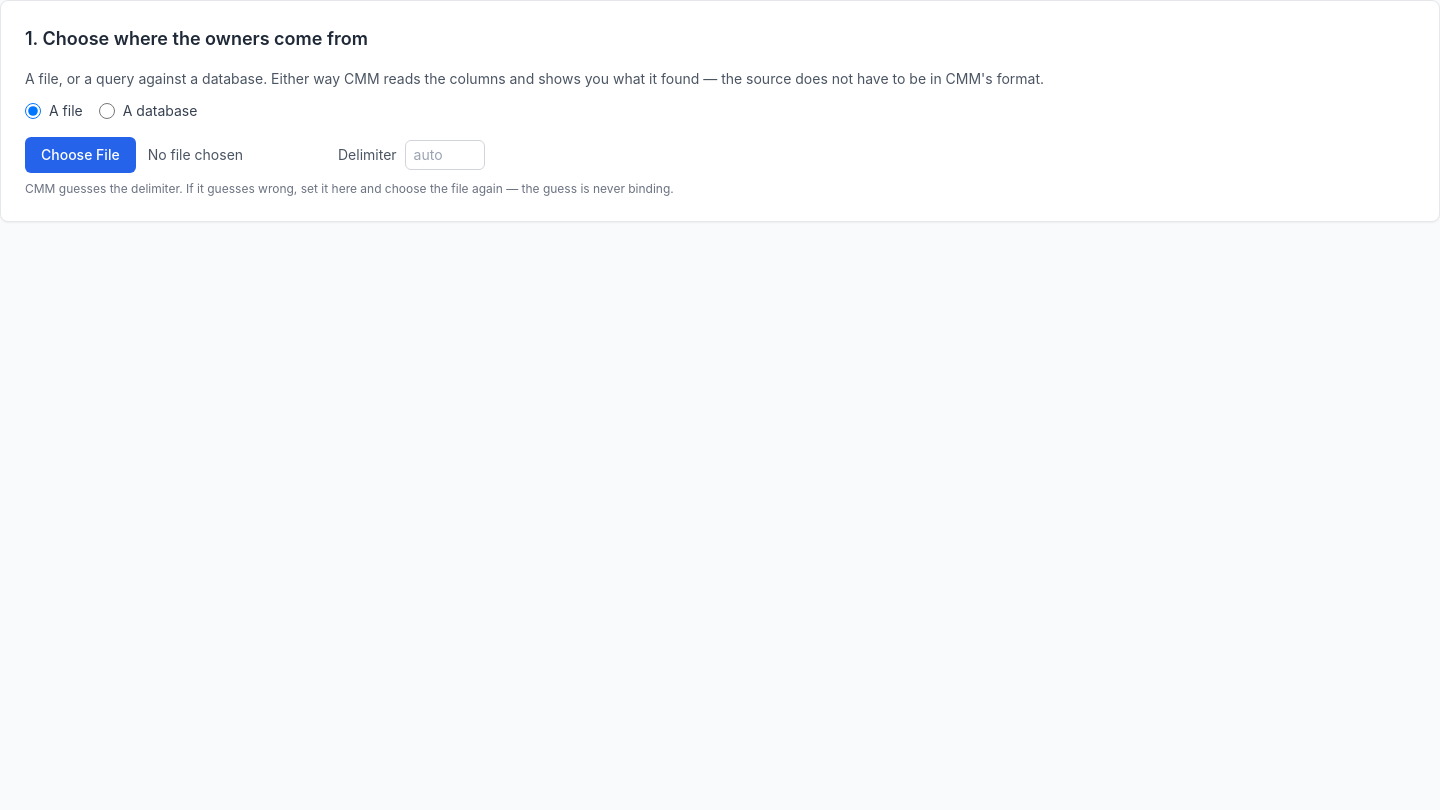
Test: importing owners from a database › reads the query's columns into the mapping step
Click the radio button labelled "A database": click(107, 111) [99,103,115,119]
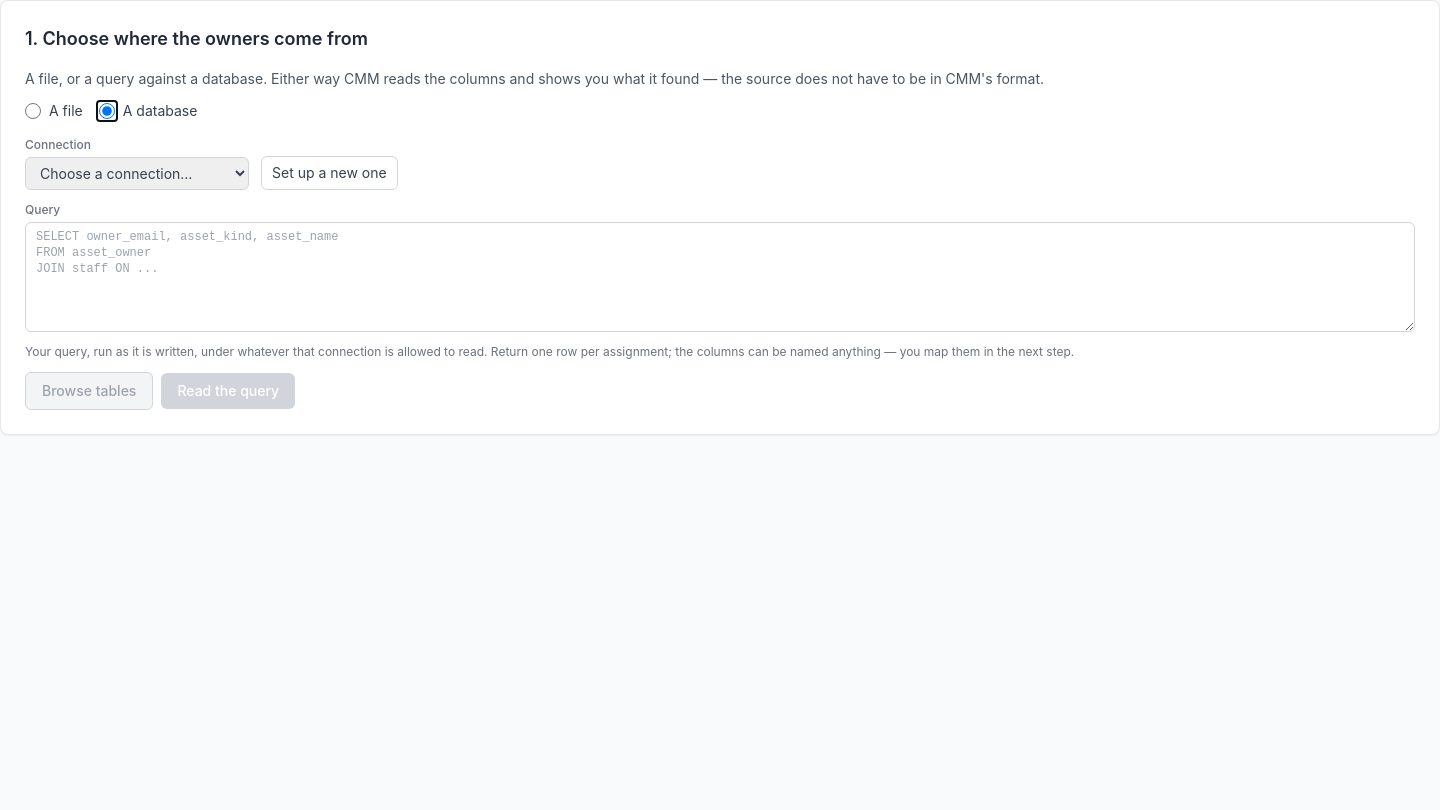
Select "cmdb-connection" in the dropdown labelled "Connection": (137, 174) [25,157,249,190]
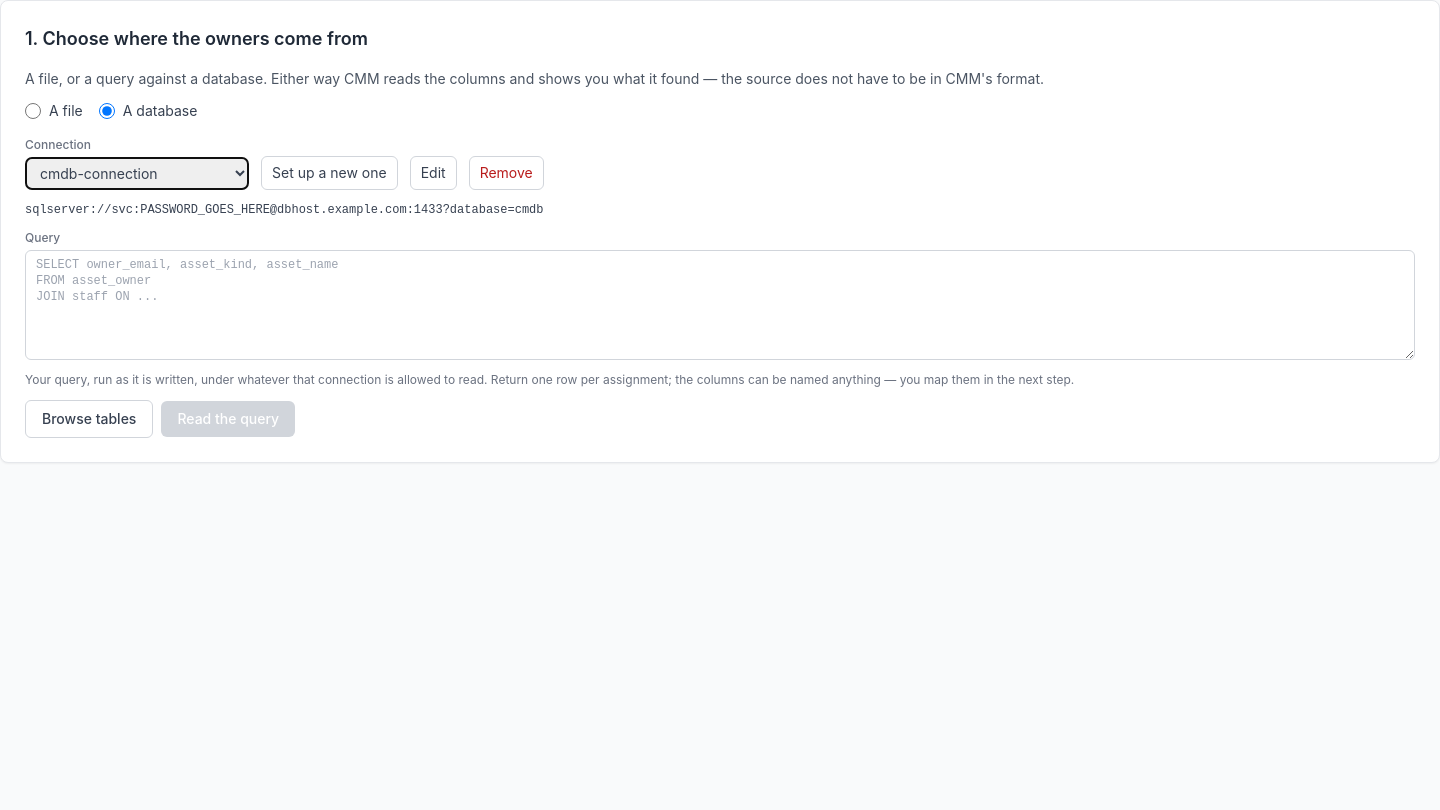
In the text box labelled "Query": (720, 305) [25,250,1415,360], type "SELECT owner_email FROM asset_owner"
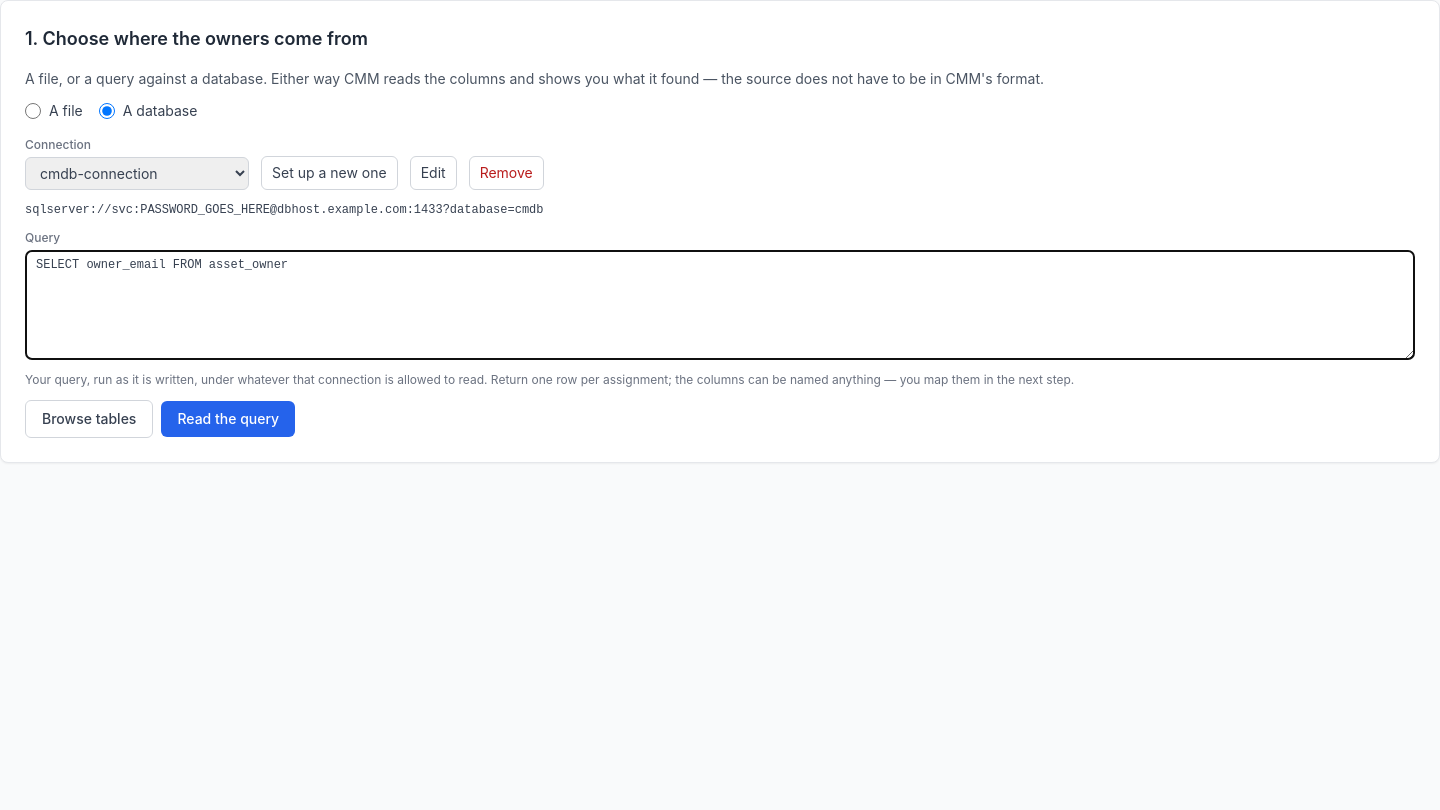
Click the button "Read the query": click(228, 419) [161,401,295,437]
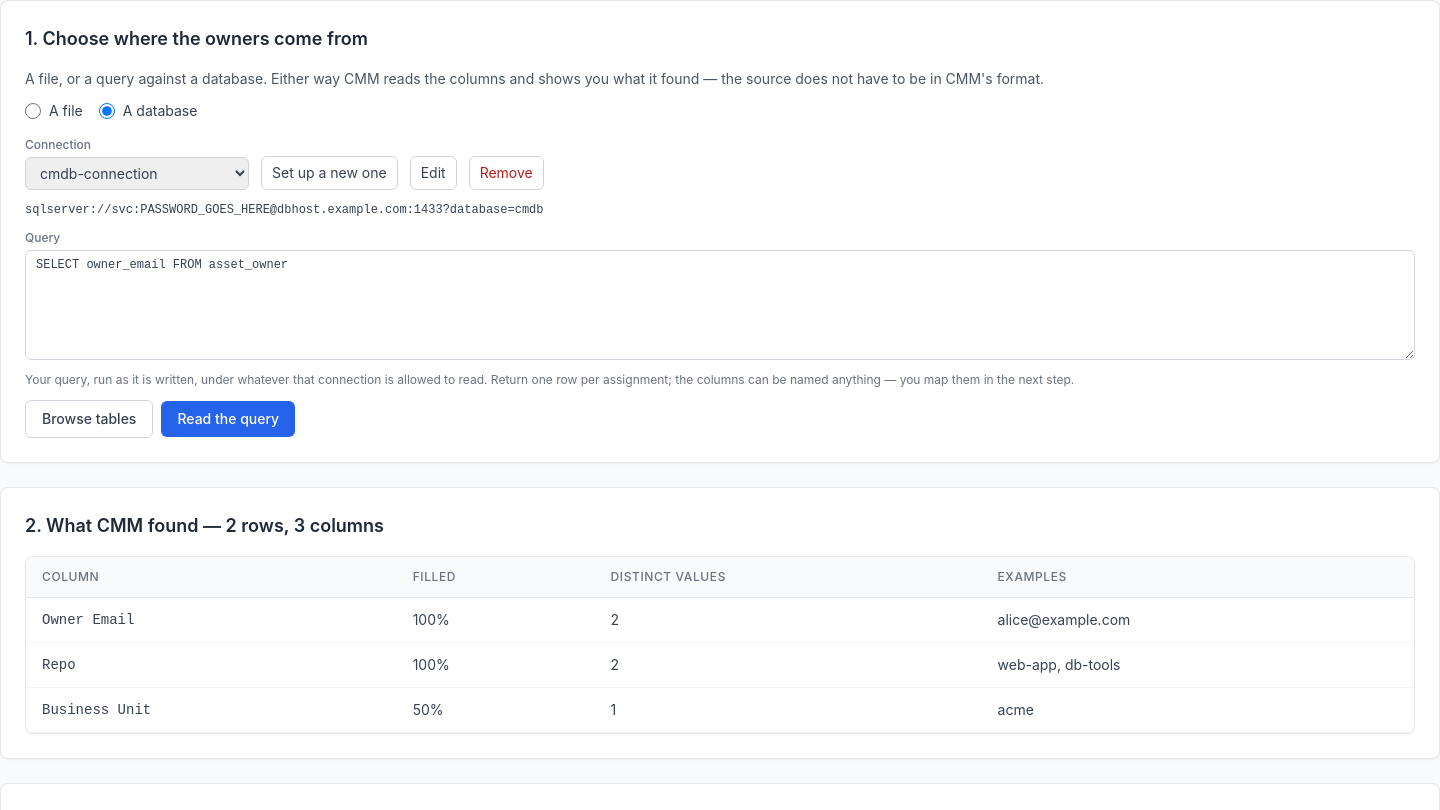
Expected: the text "Owner Email" is shown, [26,598,397,642]
